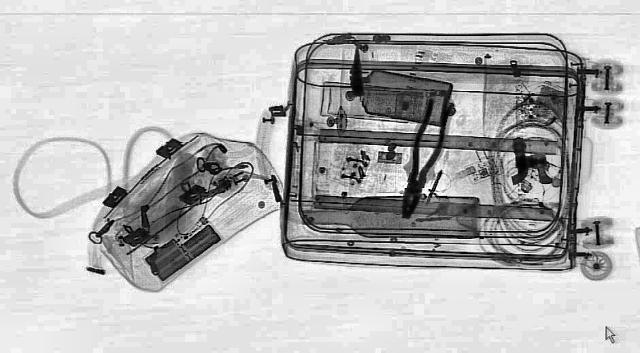Pliers: (391, 96, 455, 220)
